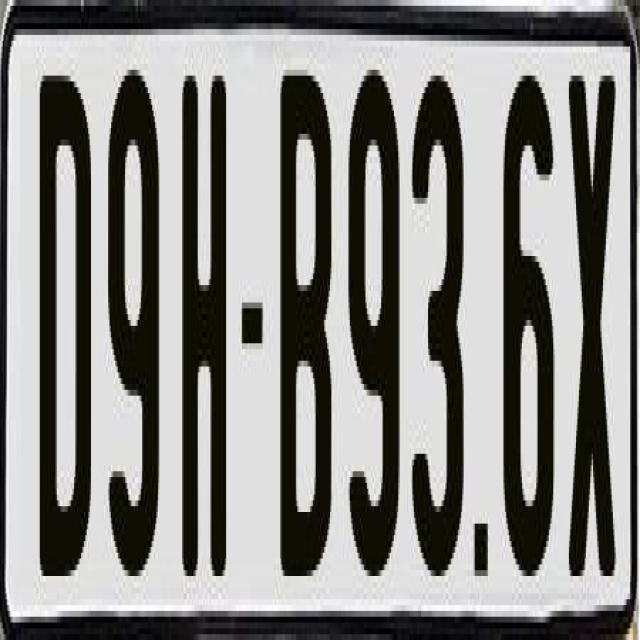3: (412, 64, 470, 594)
6: (504, 64, 554, 582)
9: (106, 58, 166, 570), (348, 70, 402, 594)
B: (280, 76, 339, 594)
D: (38, 58, 92, 582)
H: (180, 58, 224, 594)
X: (564, 64, 614, 570)
